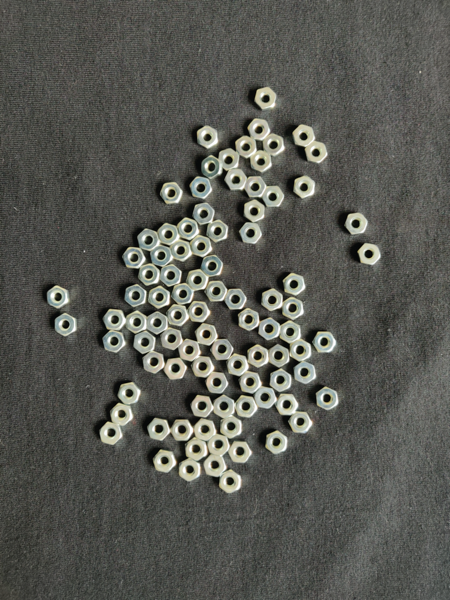nut: (153, 450, 177, 474), (219, 469, 242, 494), (265, 430, 288, 455), (203, 455, 227, 478), (289, 412, 313, 435), (148, 418, 171, 442), (55, 313, 78, 337), (46, 286, 70, 309), (239, 371, 262, 395), (239, 222, 263, 245), (344, 213, 369, 235), (229, 441, 252, 464), (100, 423, 123, 446), (111, 403, 134, 426), (294, 362, 317, 385), (161, 328, 184, 351), (201, 255, 224, 278), (157, 223, 180, 246), (160, 182, 183, 205), (262, 186, 285, 209), (305, 141, 328, 164), (293, 125, 316, 148), (179, 458, 201, 482), (317, 387, 339, 411), (191, 356, 215, 378), (294, 176, 316, 200), (255, 87, 277, 111), (186, 438, 208, 461), (118, 383, 141, 405), (194, 419, 216, 442), (191, 396, 214, 418), (235, 396, 258, 418), (254, 387, 277, 409), (206, 372, 229, 394), (103, 331, 126, 353), (103, 309, 126, 331), (143, 351, 165, 374), (164, 358, 187, 380), (227, 354, 249, 377), (290, 339, 312, 362), (134, 331, 156, 354), (179, 339, 201, 362), (211, 339, 234, 361), (195, 324, 218, 346), (166, 305, 189, 327), (187, 301, 210, 323), (125, 285, 147, 308), (282, 298, 305, 320), (262, 289, 284, 312), (284, 273, 306, 296), (187, 269, 209, 292), (138, 264, 161, 286), (123, 247, 146, 269), (177, 218, 199, 241), (189, 177, 212, 199), (225, 169, 248, 191), (263, 134, 285, 157), (248, 119, 271, 141), (221, 415, 242, 439), (214, 395, 235, 419), (275, 395, 299, 416), (271, 369, 292, 393), (269, 344, 290, 368), (313, 332, 337, 353), (259, 317, 280, 341), (149, 286, 170, 310), (224, 289, 248, 310), (202, 155, 223, 179), (208, 435, 230, 457), (280, 321, 302, 343), (172, 284, 194, 306), (160, 265, 182, 287), (170, 240, 192, 262), (190, 236, 212, 258), (193, 203, 215, 225), (248, 345, 269, 368), (126, 311, 147, 334), (147, 312, 168, 335), (238, 308, 259, 331), (358, 244, 381, 265), (205, 281, 228, 302), (150, 246, 173, 267), (137, 230, 160, 251), (207, 220, 228, 243), (244, 200, 265, 223), (219, 148, 240, 171), (251, 151, 272, 174), (236, 136, 257, 159), (197, 126, 218, 149), (171, 420, 193, 441), (245, 177, 267, 198)
